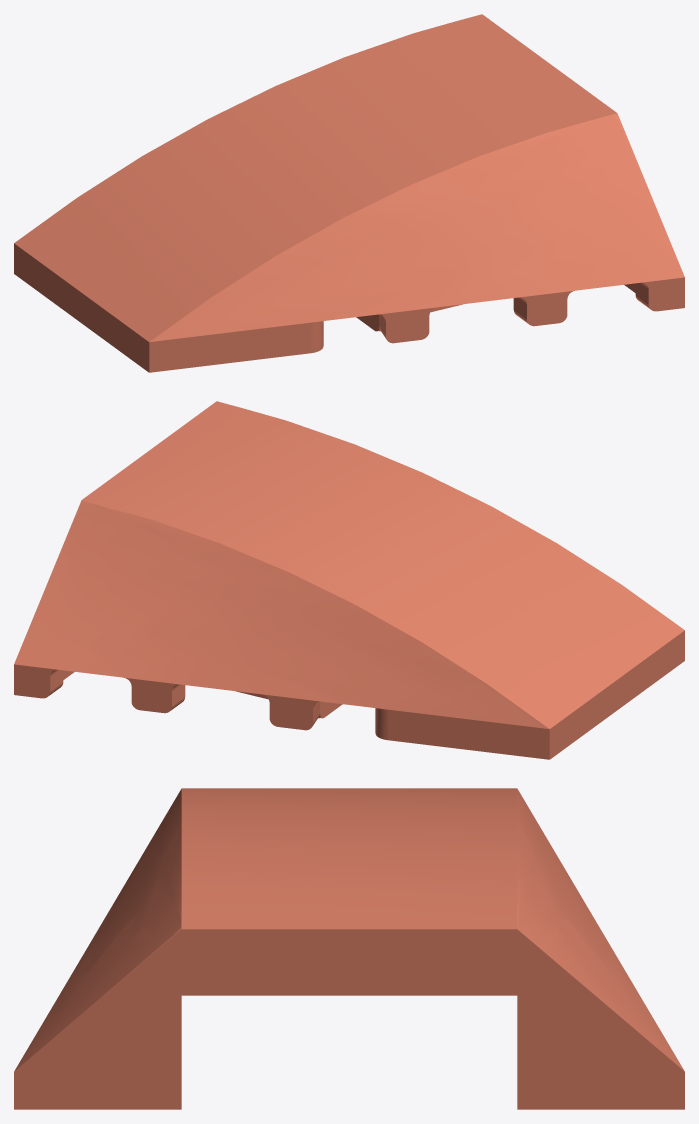
3 views of the same model, one above another, from view 1: azimuth 30°, elevation 25°; view 2: azimuth 150°, elevation 25°; view 3: azimuth 270°, elevation 25° (orthographic). The views are drawn at different scales.
Parts seen in each view (by area): view 1: [pivoted]; view 2: [pivoted]; view 3: [pivoted].
Part boxes in pixels (x1=…): [pivoted]: x1=14, y1=14, x2=684, y2=372; [pivoted]: x1=14, y1=401, x2=684, y2=759; [pivoted]: x1=14, y1=788, x2=684, y2=1109.
Bounding box in the file's own units: 3.2 × 0.95 × 3.2.
